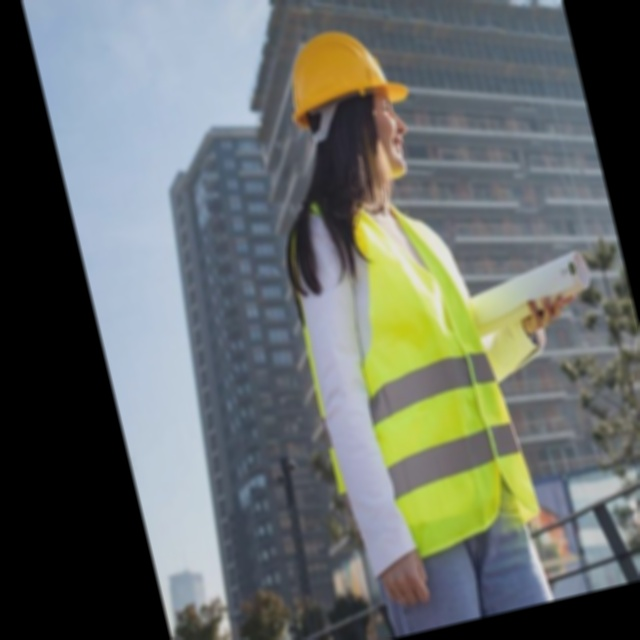Con_Casco: (276, 19, 429, 201)
Con_Chaleco: (278, 178, 537, 563)
